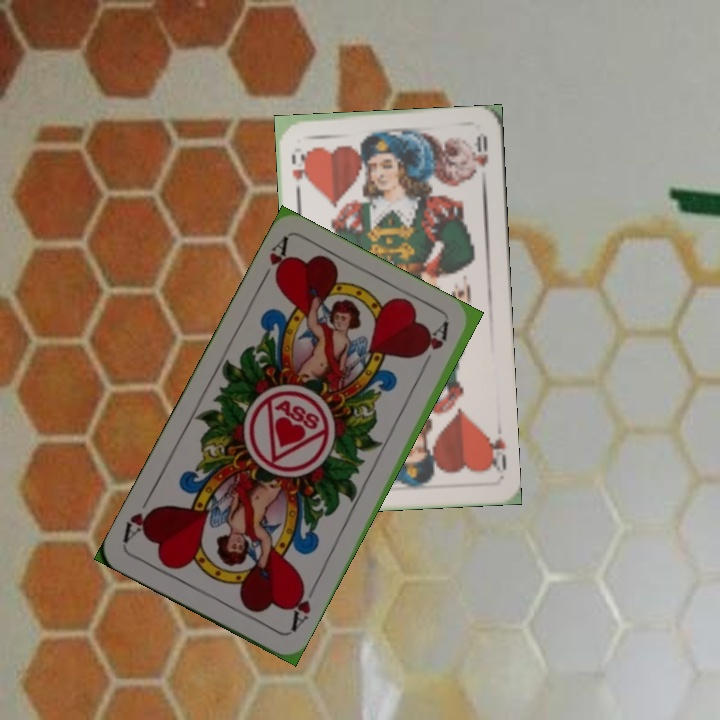HA: (255, 234, 293, 289), (286, 580, 314, 635)
HO: (483, 420, 509, 476), (288, 147, 311, 198)
